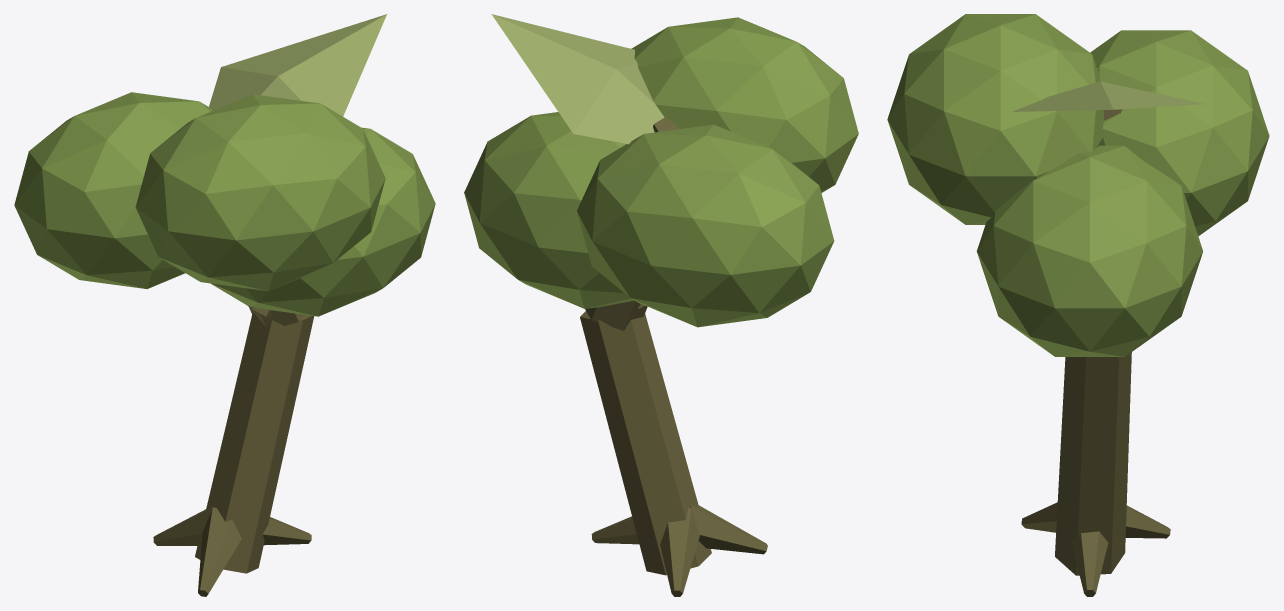
Rendered from map-boundaries-v5__meadow_01.glb.
3 views of the same model, side by side, from view 1: azimuth 30°, elevation 25°; view 2: azimuth 150°, elevation 25°; view 3: azimuth 270°, elevation 25° (orthographic). The views are drawn at different scales.
Parts seen in each view (by area): view 1: meadow_01; view 2: meadow_01; view 3: meadow_01.
Part boxes in pixels (x1,y1,x2,y2): meadow_01: (14,14,435,596); meadow_01: (464,14,858,596); meadow_01: (887,14,1269,596).
Bounding box in the file's own units: 1.88 × 2.54 × 1.62.
